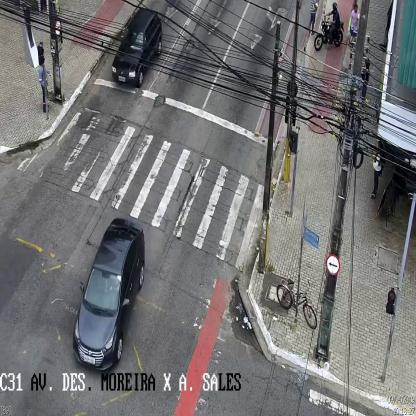bicycle: (276, 277, 317, 333)
car: (73, 217, 146, 372), (111, 6, 161, 89)
motorbike: (314, 2, 344, 50)
person: (370, 141, 383, 200), (38, 58, 50, 116), (347, 4, 360, 57)
